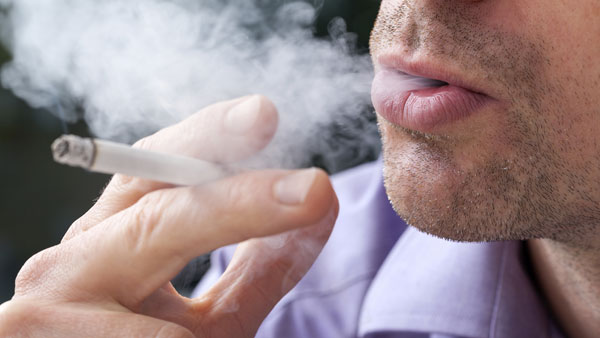cigarette: (41, 125, 254, 203)
